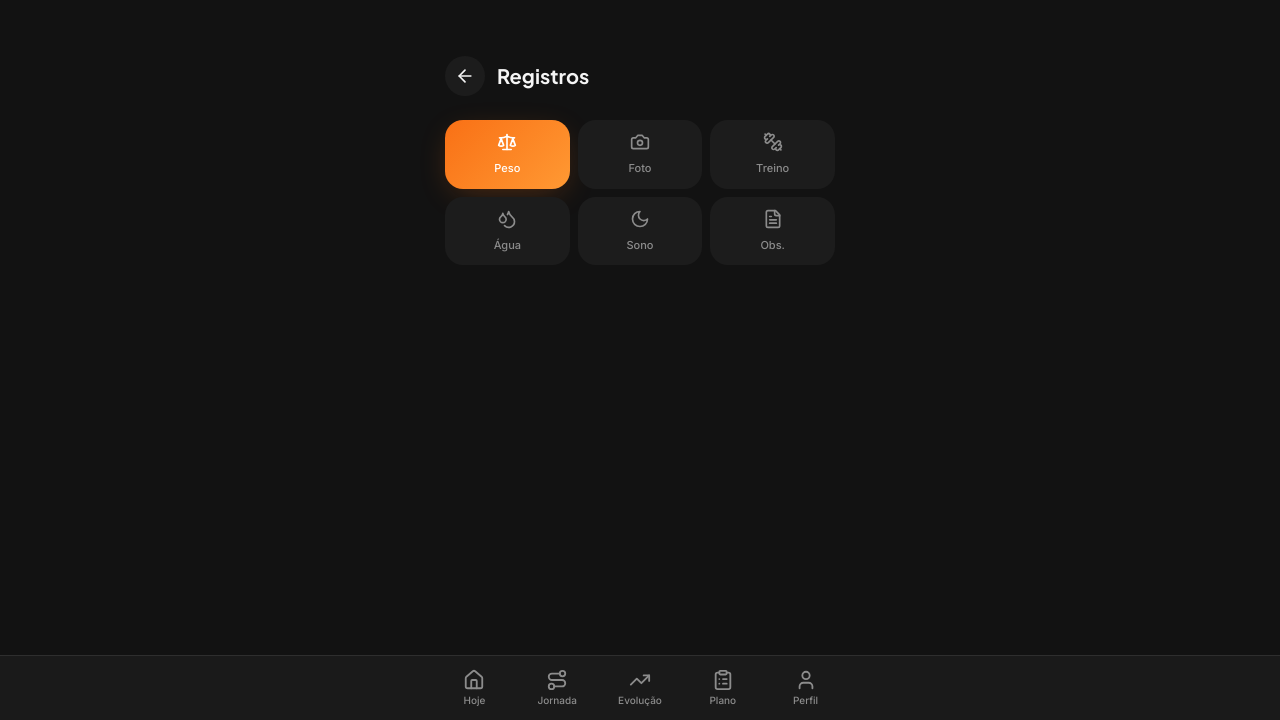
Scenario: Registros / aba Obs. — cadeado no lugar do textarea (WP-APP-6 item 3.1) › mostra o cadeado com texto PRÓPRIO, não o de integração com aparelho
Click the button "Obs.".
click(773, 231)  # box 710,196 -> 835,265
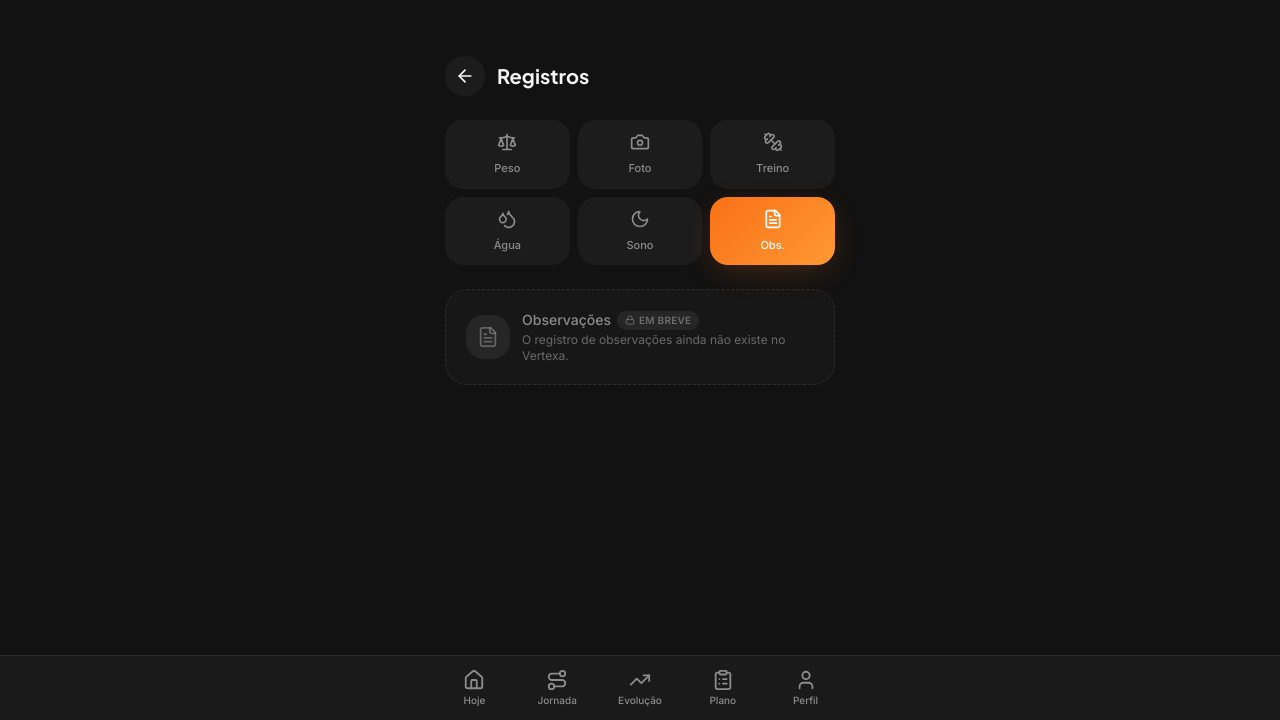
Result: the text "O registro de observações ainda não existe no Vertexa." is shown at 522,332 -> 814,364
